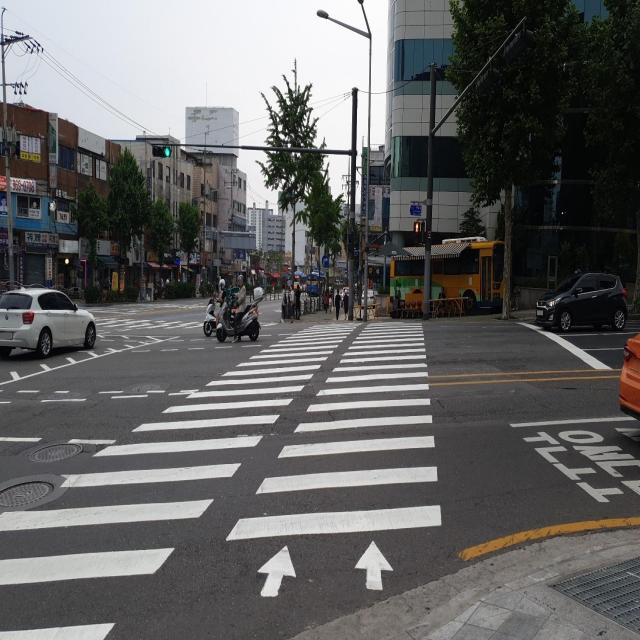횡단보도: (0, 318, 441, 640)
